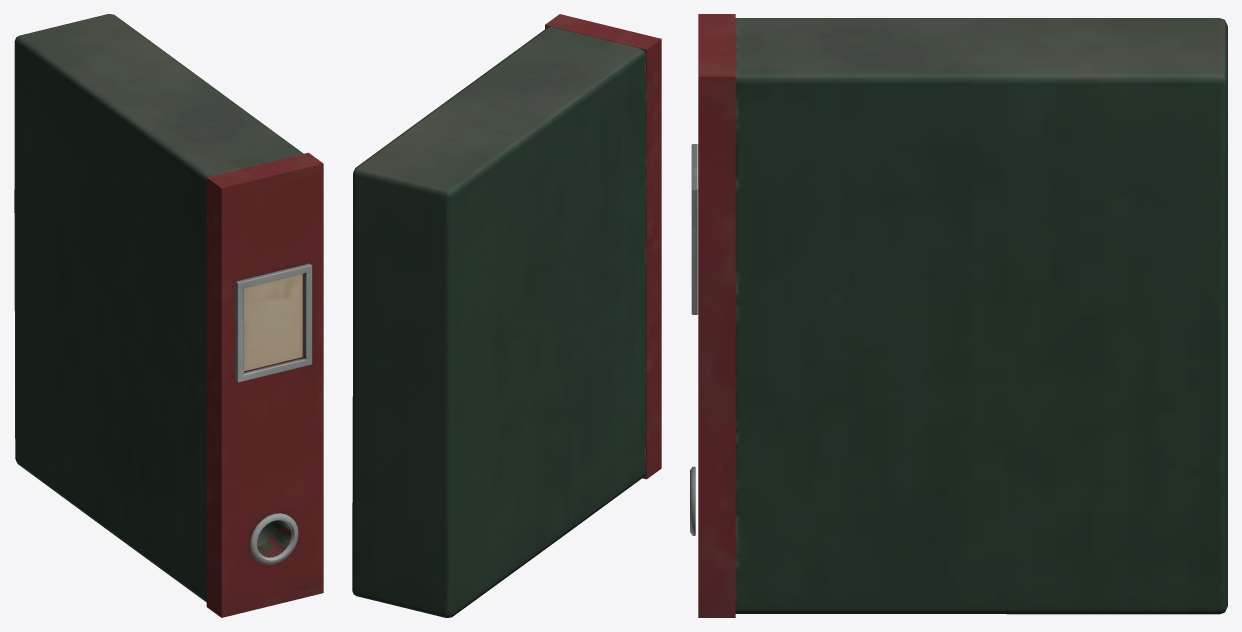
3 views of the same model, side by side, from view 1: azimuth 30°, elevation 25°; view 2: azimuth 150°, elevation 25°; view 3: azimuth 270°, elevation 25° (orthographic). The views are drawn at different scales.
Visible parts, largest first — view 1: box_file; view 2: box_file; view 3: box_file.
Boxes of the visible parts, x1,y1,x2,y2 form: box_file: (14, 14, 323, 617); box_file: (352, 14, 661, 617); box_file: (690, 14, 1227, 617).
Bounding box in the file's own units: 0.079 × 0.3184 × 0.2866.
Materials: 1 (1 with a texture image).
